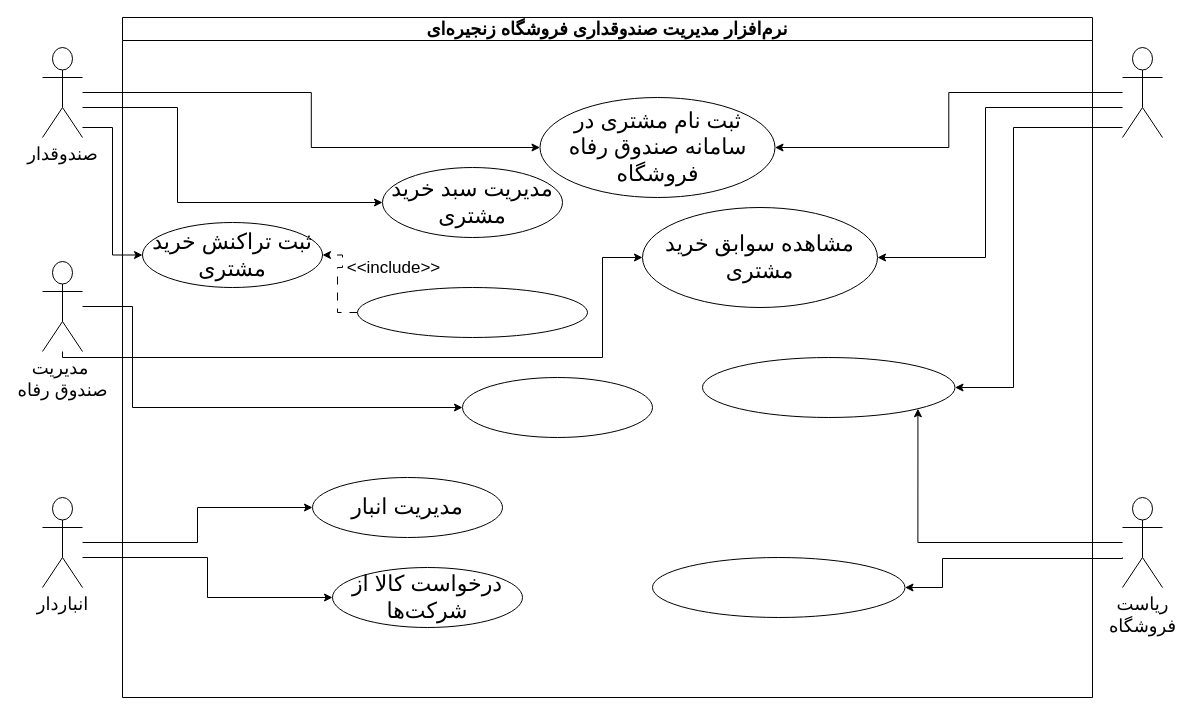
Some shapes in this 1193 by 715 pixel diagram are drawn without their labels. Each missing label, with the box of its shape:
اعطای دسترسی به کادر: (652, 556, 905, 618)
تعیین نرخ تخفیف: (462, 376, 652, 438)
مدیریت حساب کاربری مشتری: (702, 356, 955, 418)
مشتری: (1122, 46, 1162, 138)
ویرایش موجودی جدید کالاها: (356, 286, 588, 338)
